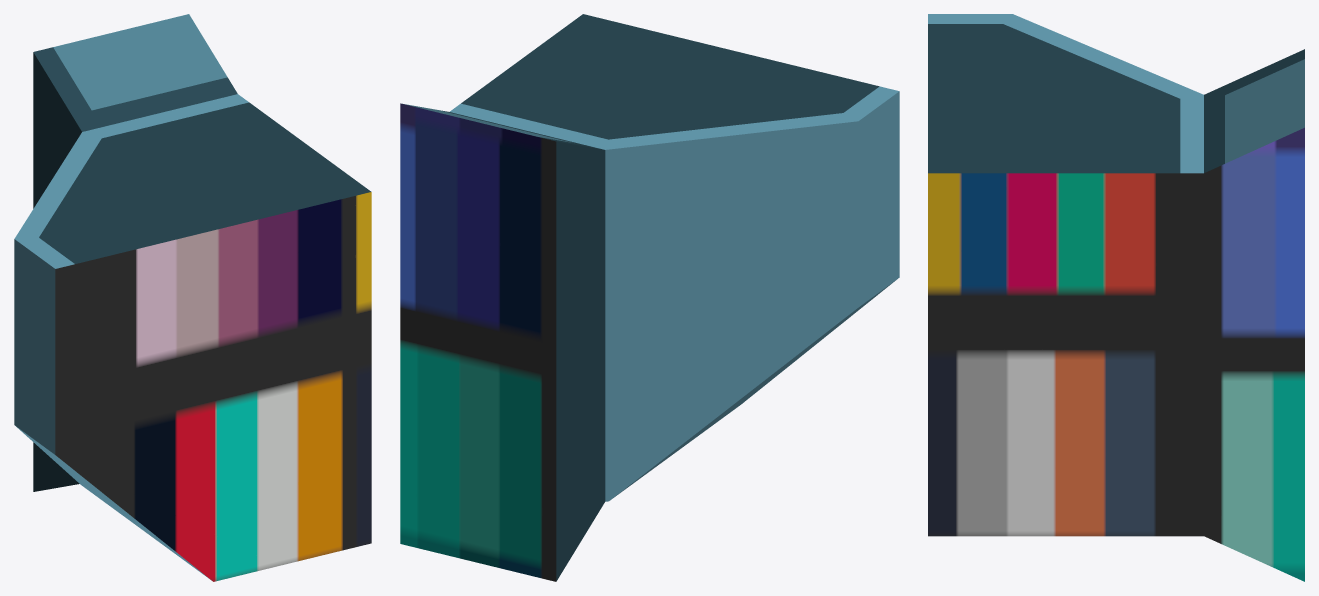
The model's file is tile_0_1_1.gltf.
3 renders of one model, left to right at view 1: azimuth 30°, elevation 25°; view 2: azimuth 150°, elevation 25°; view 3: azimuth 270°, elevation 25°, orthographic. The views are drawn at different scales.
Parts seen in each view (by area): view 1: arena.floor.corners.001, arena.sides.high.048; view 2: arena.floor.corners.001, arena.sides.high.048; view 3: arena.floor.corners.001, arena.sides.high.048.
Part boxes in pixels (x1,y1,x2,y2): arena.floor.corners.001: [14, 94, 371, 581]; arena.sides.high.048: [33, 14, 237, 491]; arena.floor.corners.001: [449, 14, 899, 501]; arena.sides.high.048: [400, 103, 605, 581]; arena.floor.corners.001: [928, 14, 1203, 536]; arena.sides.high.048: [1204, 49, 1304, 581].
Bounding box in the file's own units: 8 × 10.64 × 8.
Materials: 1 (1 with a texture image).
